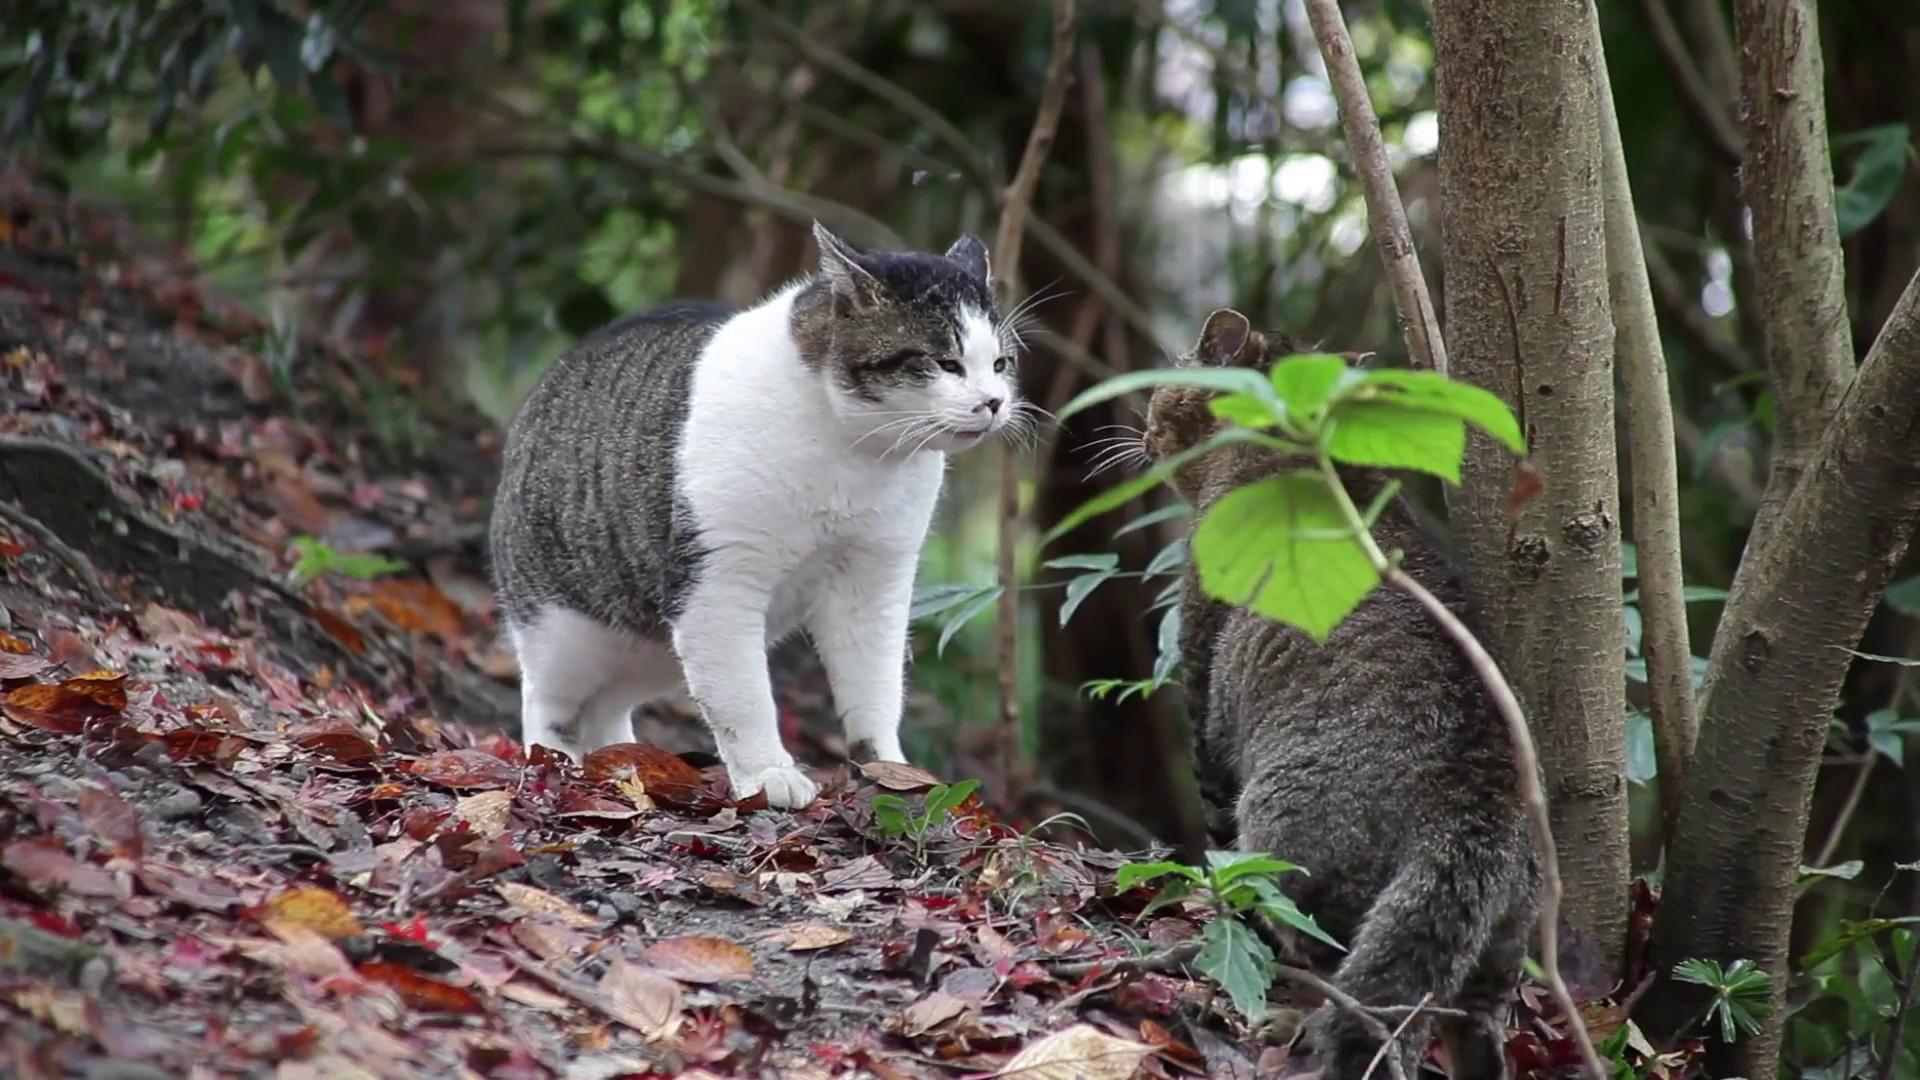black-white: (487, 218, 1019, 816)
pure black: (1138, 305, 1527, 1080)
